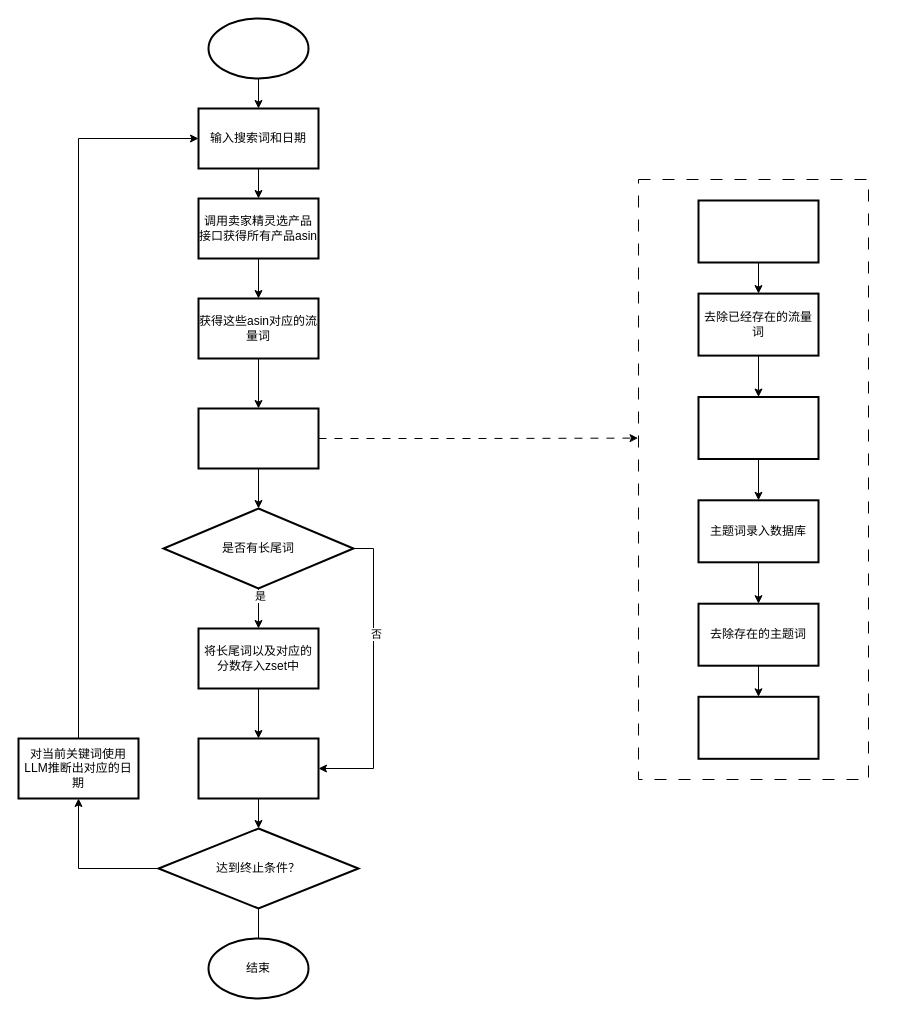
Image size: 905x1016. Some labels were removed from this diagram. The shapes that lost their labels are listed below. From the top down, each one's box as (x1, y1, x2, y2) in pixels, then its label:
(207, 17, 309, 79): 开始
(697, 199, 819, 263): 流量词录入数据库
(197, 407, 319, 469): 流量词预处理
(697, 396, 819, 460): 清洗分析主题
(697, 695, 819, 759): 分析长尾词
(197, 737, 319, 799): 从zset中取出排名第一的长尾词
